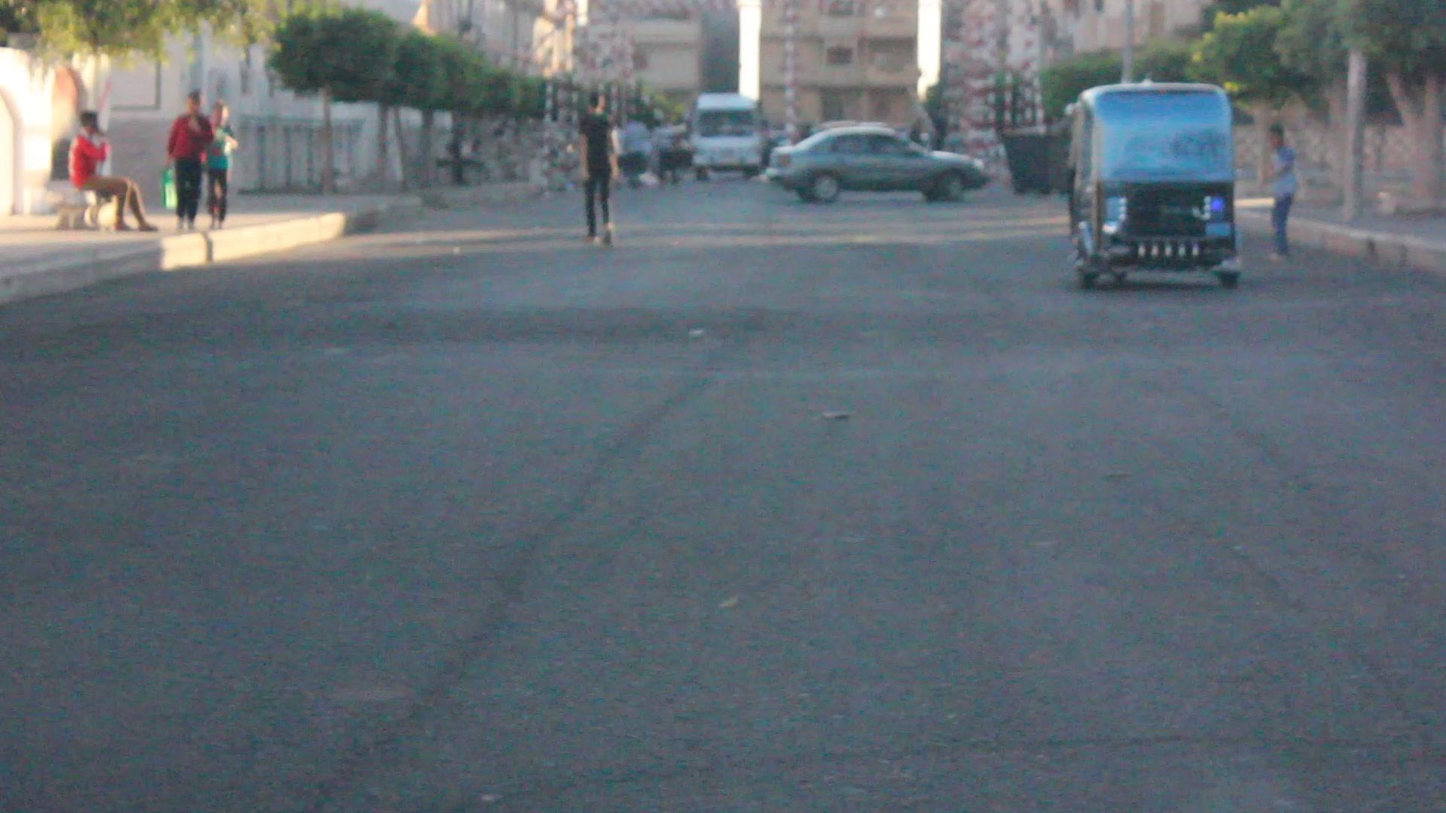Bump: (34, 273, 1438, 349)
